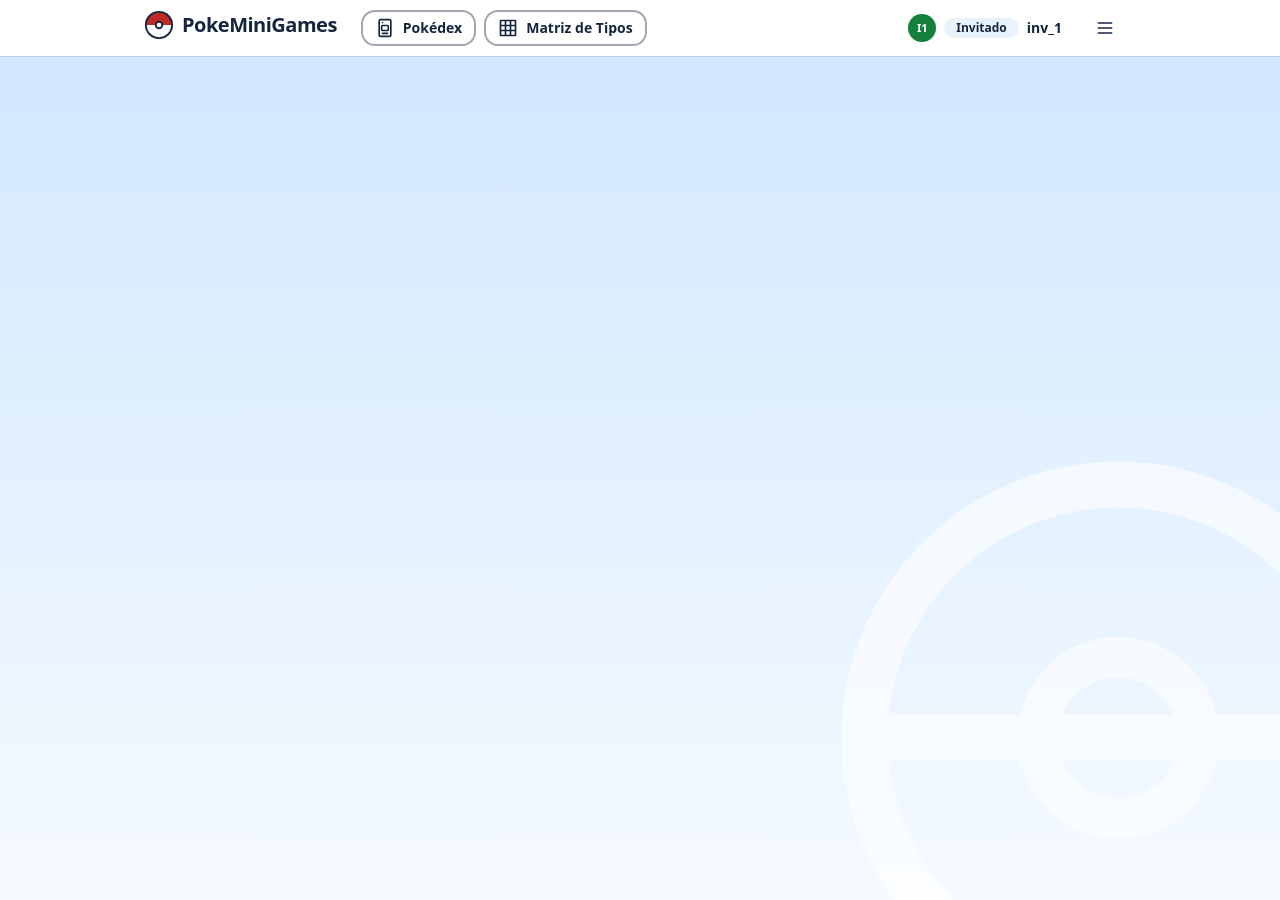
Test case: encabezado › el de un invitado muestra «Invitado» con su nombre y «Crear cuenta» (a /registro), sin «Mi perfil», y conserva «Cerrar sesión» y «Apariencia»
The image size is (1280, 900).
Expected: the text "Invitado" is shown, [944, 18, 1019, 38]
Expected: the text "inv_1" is shown, [1027, 18, 1062, 38]
Click the button named "Menú": point(1105, 28) [1074, 9, 1136, 47]
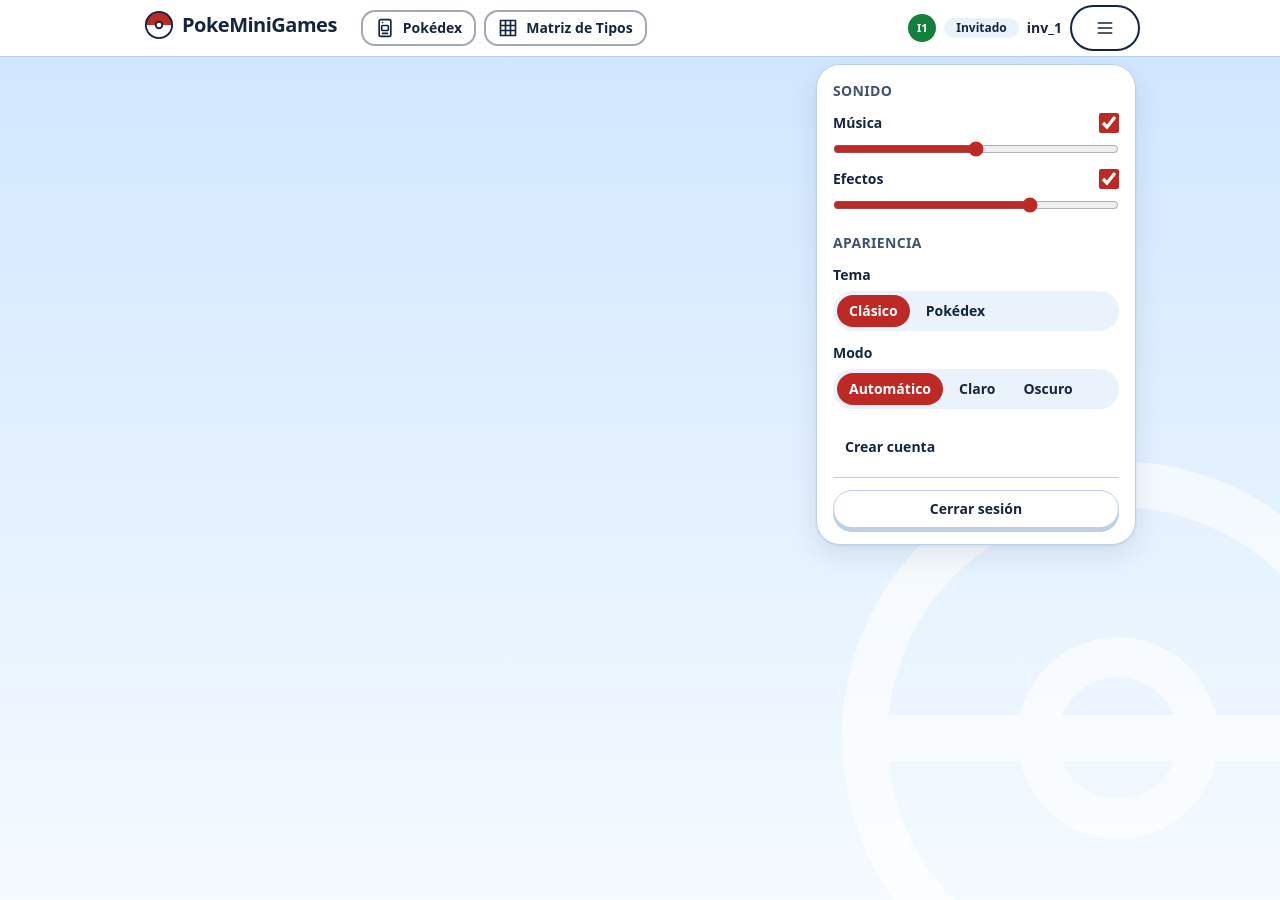
Result: the button "Cerrar sesión" is shown at [833, 490, 1119, 528]
